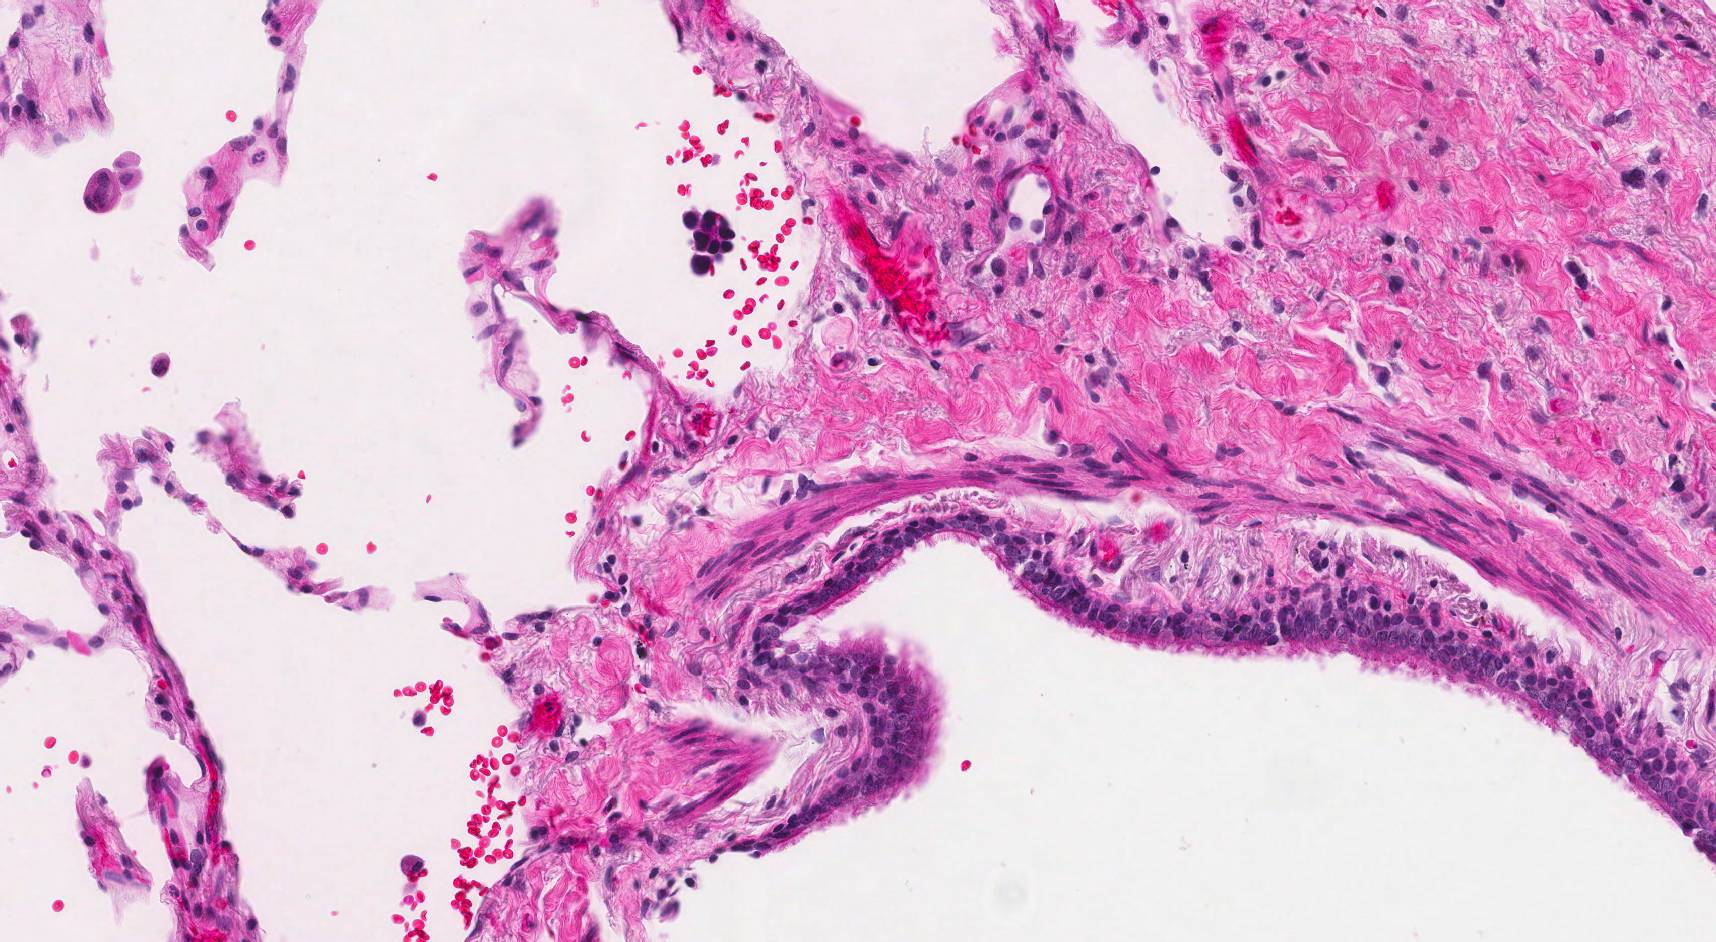stas: (678, 206, 735, 276)
